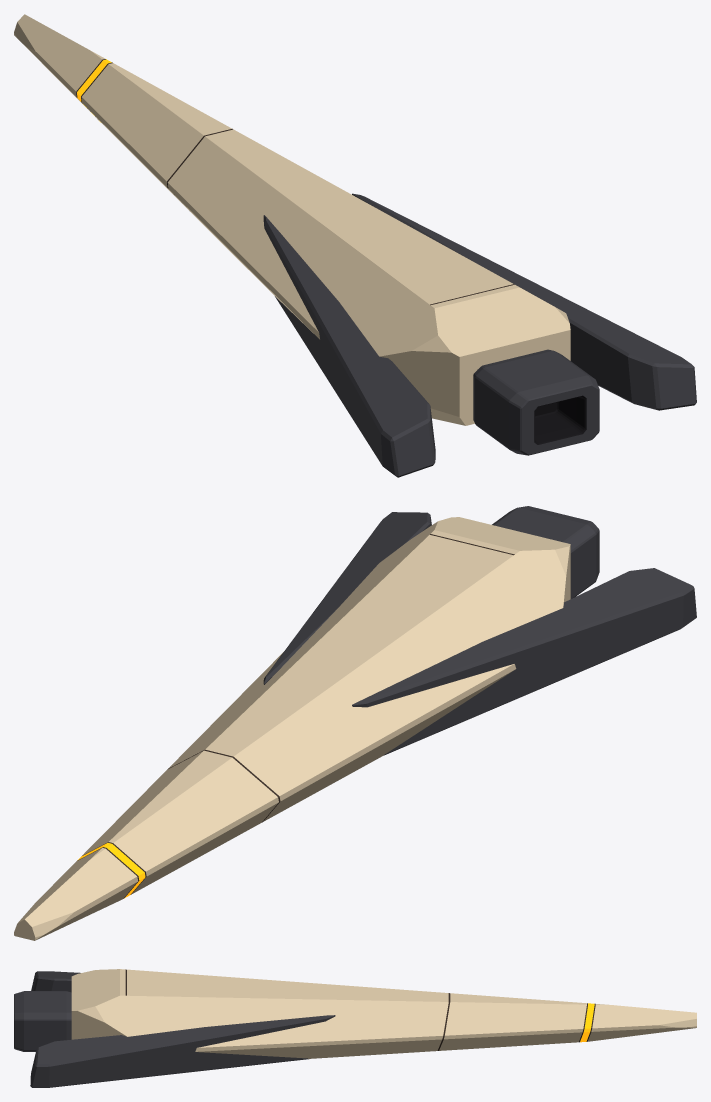
File: B-Arrowhead.fbx
3 renders of one model, top to bottom at view 1: azimuth 30°, elevation 25°; view 2: azimuth 150°, elevation 25°; view 3: azimuth 270°, elevation 25°, orthographic. The views are drawn at different scales.
Visible parts, largest first — view 1: Arrowhead • hull, Arrowhead • port fin, Arrowhead • square exhaust, Arrowhead • starboard fin; view 2: Arrowhead • hull, Arrowhead • port fin, Arrowhead • starboard fin, Arrowhead • square exhaust; view 3: Arrowhead • hull, Arrowhead • starboard fin, Arrowhead • square exhaust, Arrowhead • port fin.
Part boxes in pixels (box(x1,y1,x2,y2)): Arrowhead • hull: box(14, 14, 570, 425); Arrowhead • port fin: box(263, 215, 435, 477); Arrowhead • square exhaust: box(473, 349, 599, 455); Arrowhead • starboard fin: box(352, 193, 696, 410); Arrowhead • hull: box(14, 517, 570, 940); Arrowhead • port fin: box(352, 568, 696, 755); Arrowhead • starboard fin: box(263, 512, 431, 684); Arrowhead • square exhaust: box(492, 506, 599, 598); Arrowhead • hull: box(71, 969, 696, 1058); Arrowhead • starboard fin: box(30, 1015, 335, 1087); Arrowhead • square exhaust: box(14, 991, 71, 1051); Arrowhead • port fin: box(31, 971, 80, 992).
Size of the model in its own units: 180 by 55.53 by 550.
